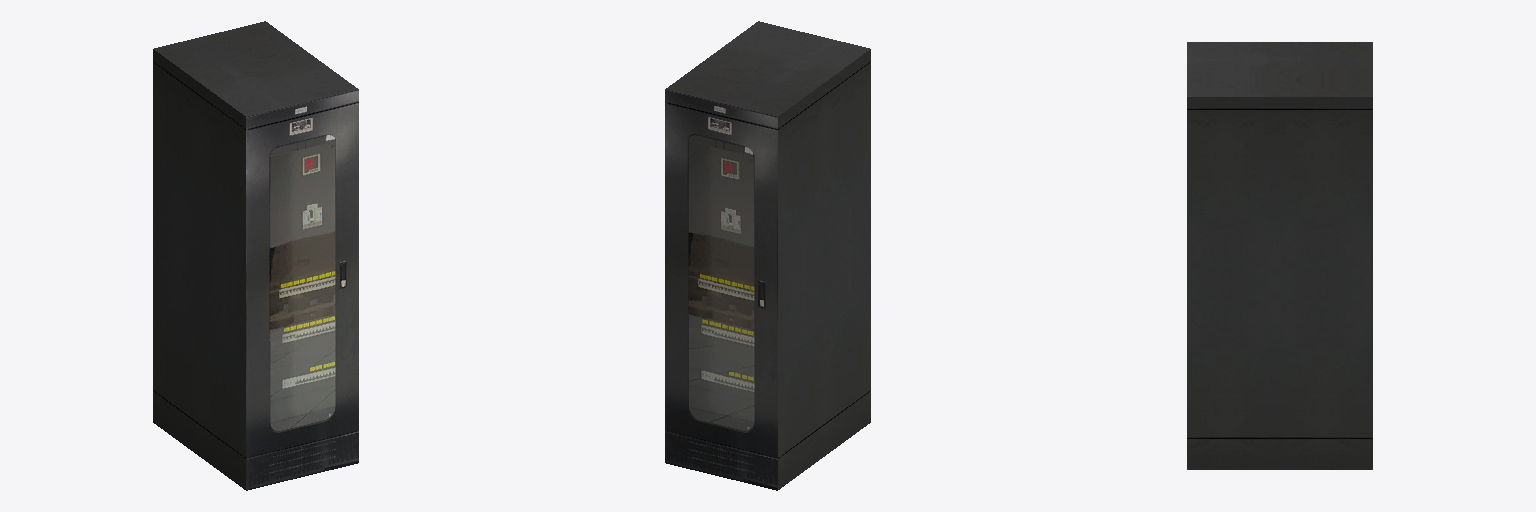
The picture shows the model from 3 angles: view 1: azimuth 30°, elevation 25°; view 2: azimuth 150°, elevation 25°; view 3: azimuth 270°, elevation 25°; orthographic projection.
Parts seen in each view (by area): view 1: Box001; view 2: Box001; view 3: Box001.
Part boxes in pixels (left/top/right/bottom): Box001: left=153, top=21, right=358, bottom=490; Box001: left=665, top=21, right=870, bottom=490; Box001: left=1187, top=42, right=1372, bottom=469.
Size of the model in its own units: 67.92 by 215 by 97.33.
1 materials, 1 textured.